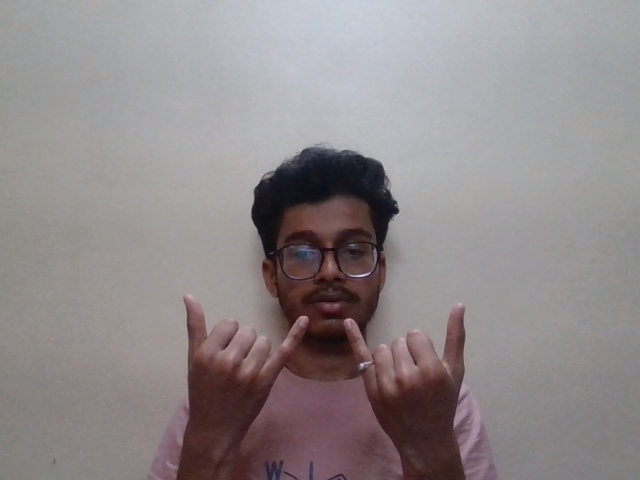today: (168, 296, 470, 440)
